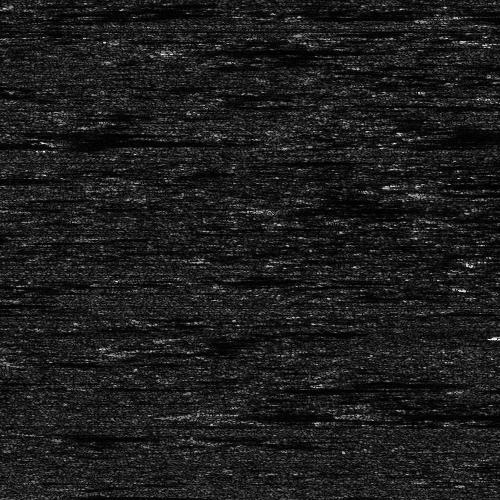object: (369, 10, 494, 21), (238, 199, 321, 214), (16, 136, 99, 147), (124, 45, 207, 54), (0, 127, 67, 138), (265, 493, 348, 500), (389, 178, 452, 187), (335, 410, 398, 417), (172, 412, 235, 417), (443, 38, 496, 43), (405, 190, 458, 195), (438, 385, 479, 390), (25, 492, 46, 500)
shadow: (57, 136, 387, 147), (15, 127, 304, 138), (280, 199, 459, 214), (0, 137, 178, 148), (165, 45, 338, 54), (204, 412, 500, 417), (36, 492, 187, 500), (307, 493, 445, 500), (367, 410, 500, 417), (432, 10, 500, 21), (421, 178, 500, 187), (432, 190, 500, 195), (458, 385, 500, 390), (470, 38, 500, 43)
